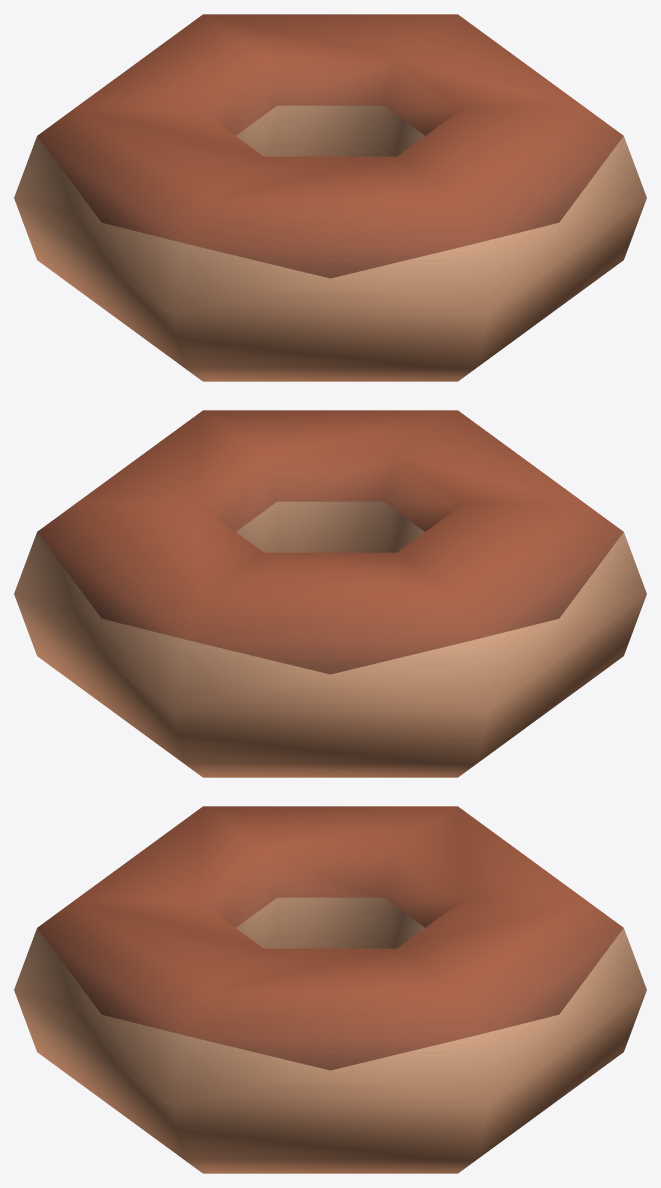
Rendered from donut-chocolate.glb.
3 renders of one model, top to bottom at view 1: azimuth 30°, elevation 25°; view 2: azimuth 150°, elevation 25°; view 3: azimuth 270°, elevation 25°, orthographic.
Visible parts, largest first — view 1: donut-chocolate; view 2: donut-chocolate; view 3: donut-chocolate.
Boxes of the visible parts, left/top/right/bottom form: donut-chocolate: left=14, top=14, right=646, bottom=381; donut-chocolate: left=14, top=410, right=646, bottom=777; donut-chocolate: left=14, top=806, right=646, bottom=1173.
Size of the model in its own units: 0.2451 by 0.0889 by 0.283.
1 material, 1 textured.
